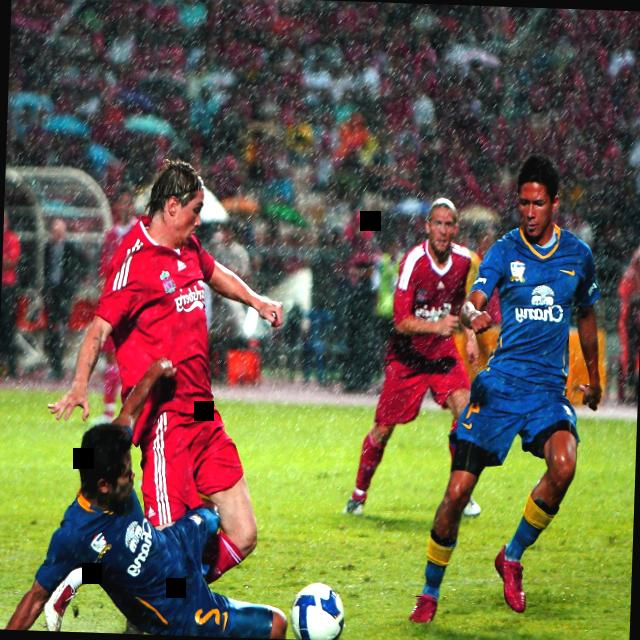Fall-Detected: (0, 359, 295, 639)
